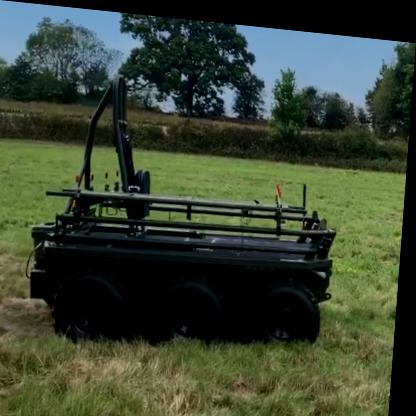UGV: (32, 187, 343, 360)
